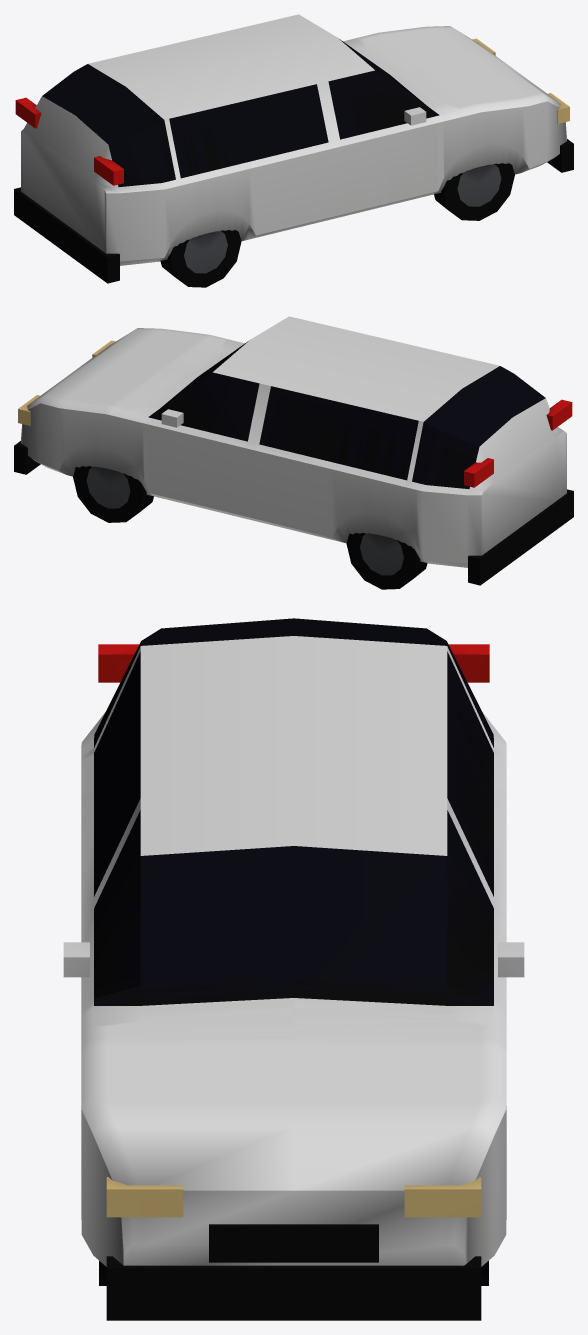
Rendered from suv.glb.
3 renders of one model, top to bottom at view 1: azimuth 30°, elevation 25°; view 2: azimuth 150°, elevation 25°; view 3: azimuth 270°, elevation 25°, orthographic. The views are drawn at different scales.
Visible parts, largest first — view 1: paint, detail; view 2: paint, detail; view 3: paint, detail.
Part boxes in pixels (left/top/right/bottom): paint: left=21, top=14, right=566, bottom=265; detail: left=14, top=38, right=573, bottom=287; paint: left=21, top=316, right=566, bottom=567; detail: left=14, top=340, right=573, bottom=589; paint: left=63, top=636, right=524, bottom=1266; detail: left=94, top=618, right=493, bottom=1320.
Bounding box in the file's own units: 1.6 × 0.5676 × 0.6863.
